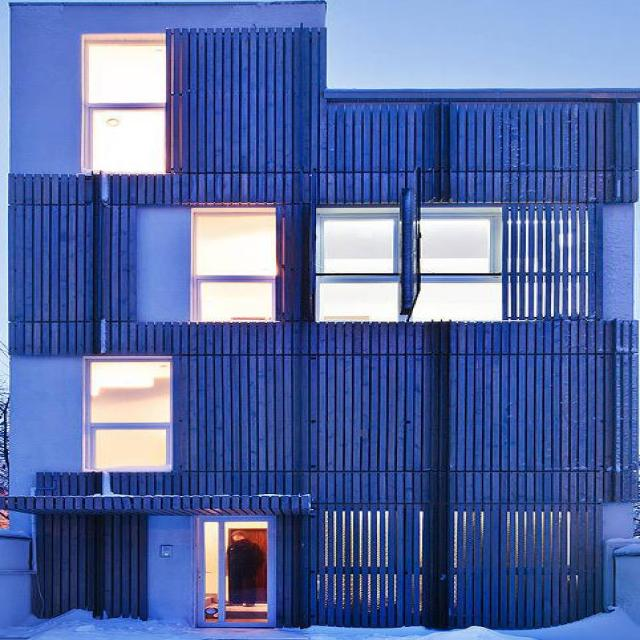door: (196, 515, 272, 625)
wall: (5, 0, 639, 627)
windows: (318, 209, 506, 320), (84, 37, 165, 172), (85, 360, 171, 468), (194, 209, 273, 322)
